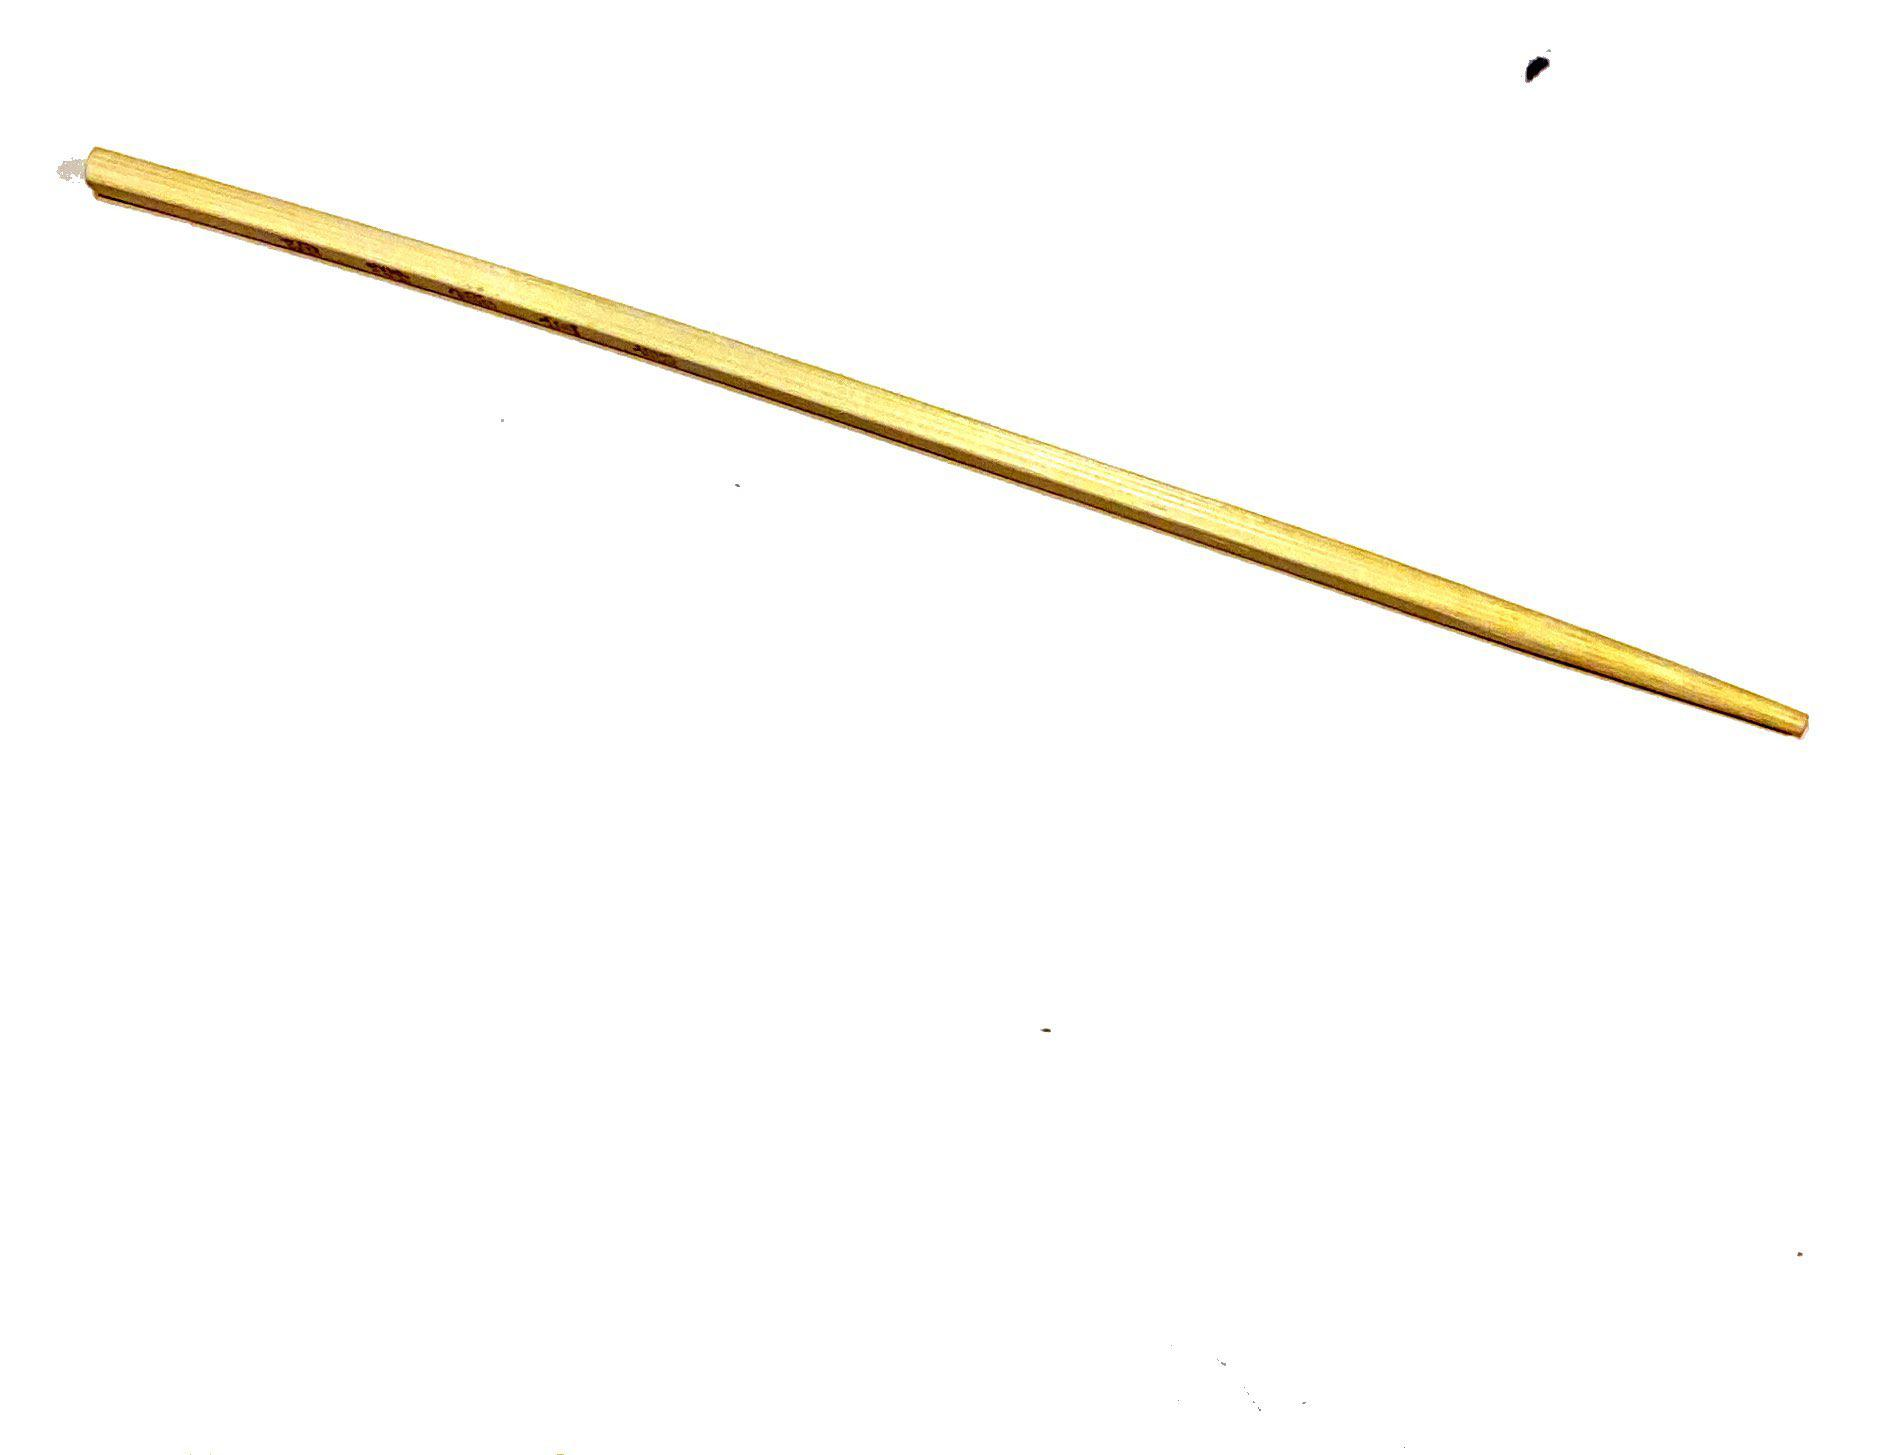Chopstick: (60, 43, 1872, 937)
